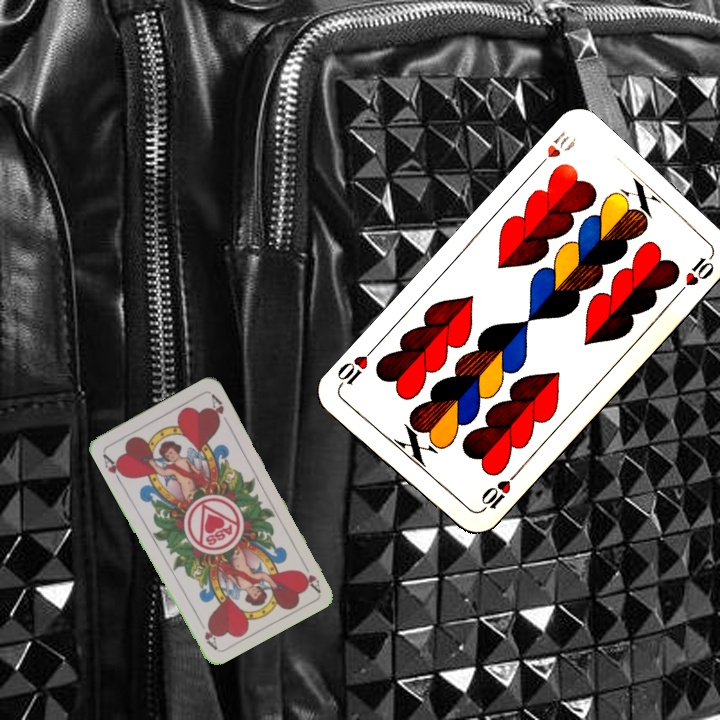H10: (530, 128, 580, 174), (474, 469, 520, 516)
HA: (99, 450, 129, 486), (295, 556, 323, 594)
